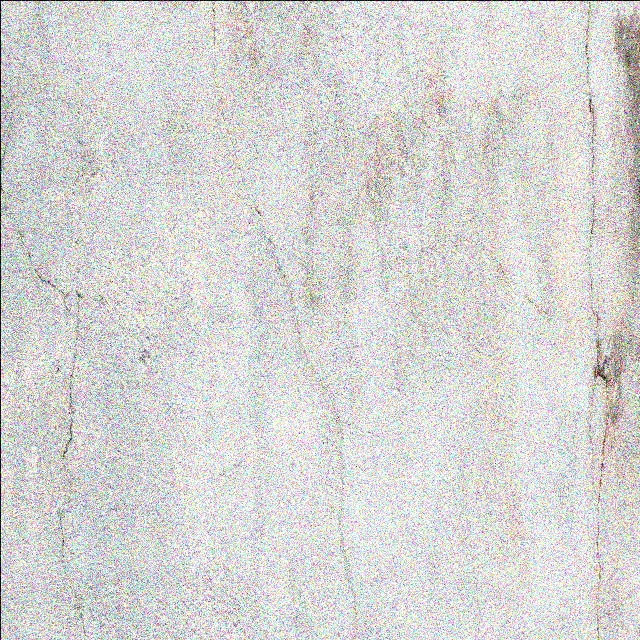SurfaceCrack: (190, 0, 379, 639), (543, 1, 640, 639)
